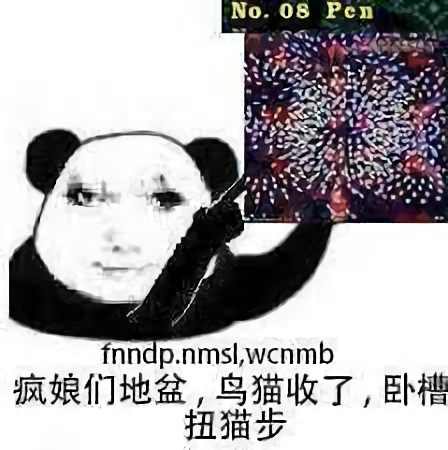dragon: (58, 176, 192, 279)
